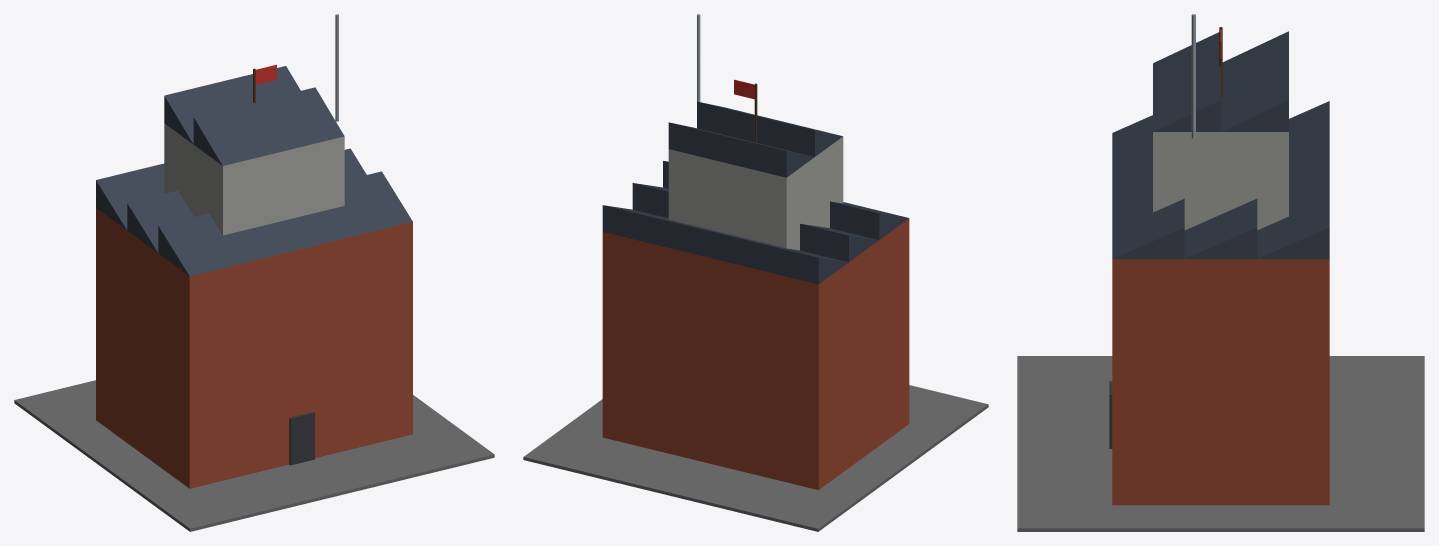
File: bld_special_command_center_a05_lod2.glb
3 views of the same model, side by side, from view 1: azimuth 30°, elevation 25°; view 2: azimuth 150°, elevation 25°; view 3: azimuth 270°, elevation 25° (orthographic). The views are drawn at different scales.
Visible parts, largest first — view 1: body; view 2: body; view 3: body.
Boxes of the visible parts, x1,y1,x2,y2 form: body: (14, 14, 494, 531); body: (523, 14, 988, 531); body: (1017, 14, 1424, 531).
Bounding box in the file's own units: 15 × 19.15 × 15.
